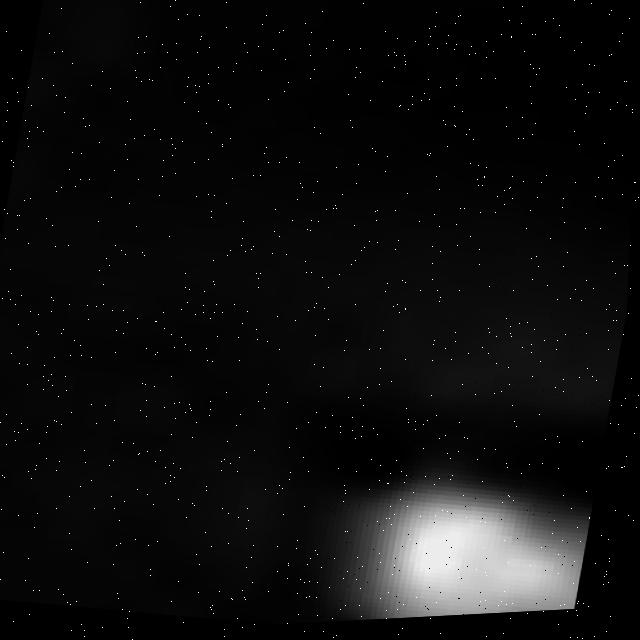person: (269, 456, 601, 629)
